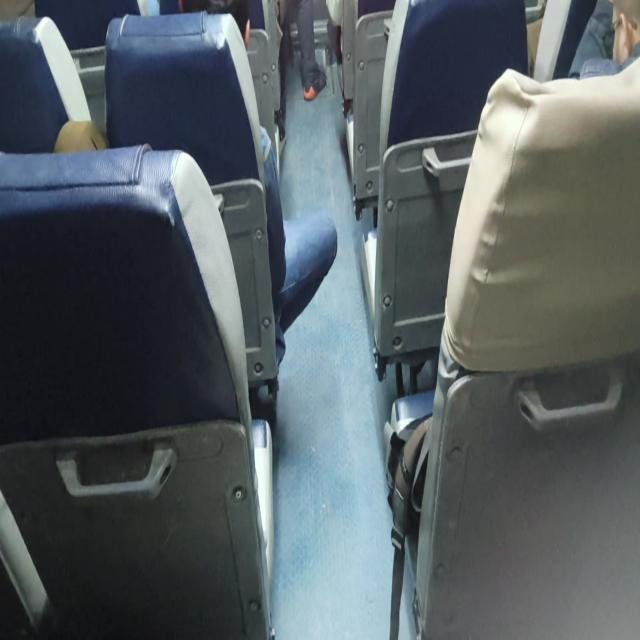person: (53, 117, 278, 429), (179, 0, 337, 365), (275, 0, 327, 144), (578, 0, 640, 79), (53, 119, 109, 152)
